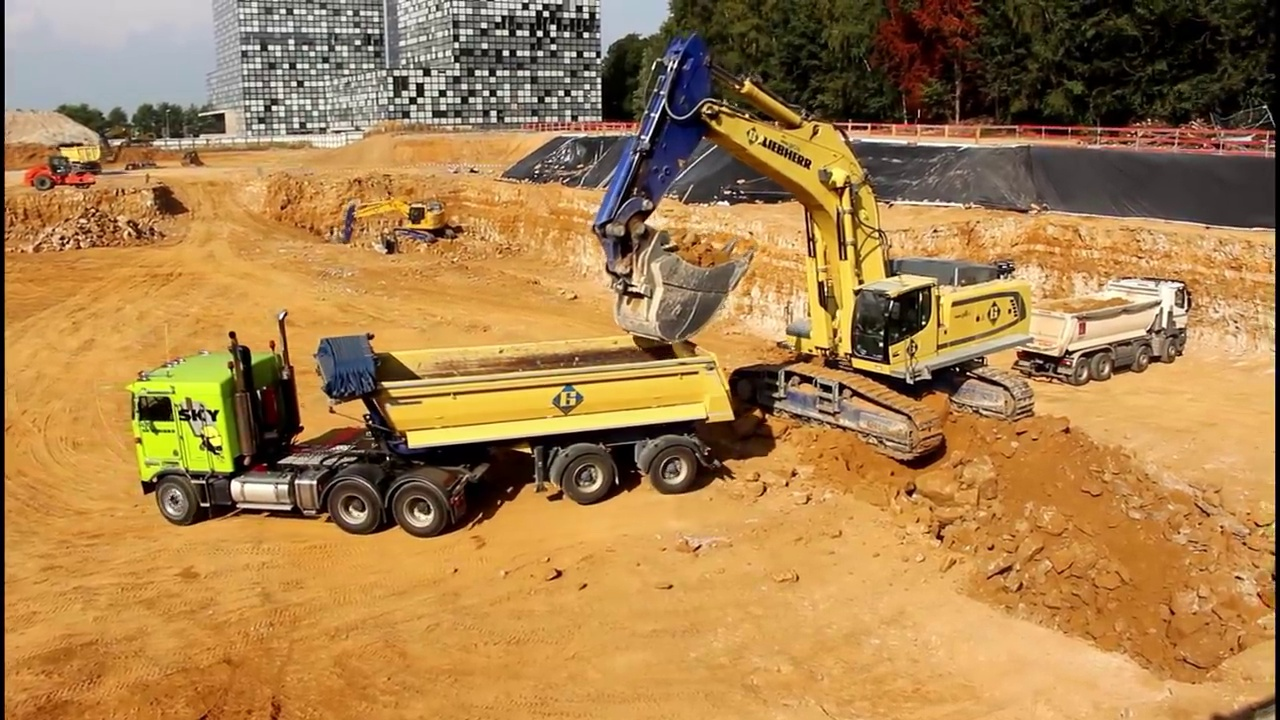compactor: (23, 157, 99, 192)
excavator: (590, 31, 1039, 468), (328, 192, 470, 257), (104, 119, 157, 150)
truck: (119, 307, 746, 547), (1014, 271, 1197, 390), (49, 136, 108, 174)
